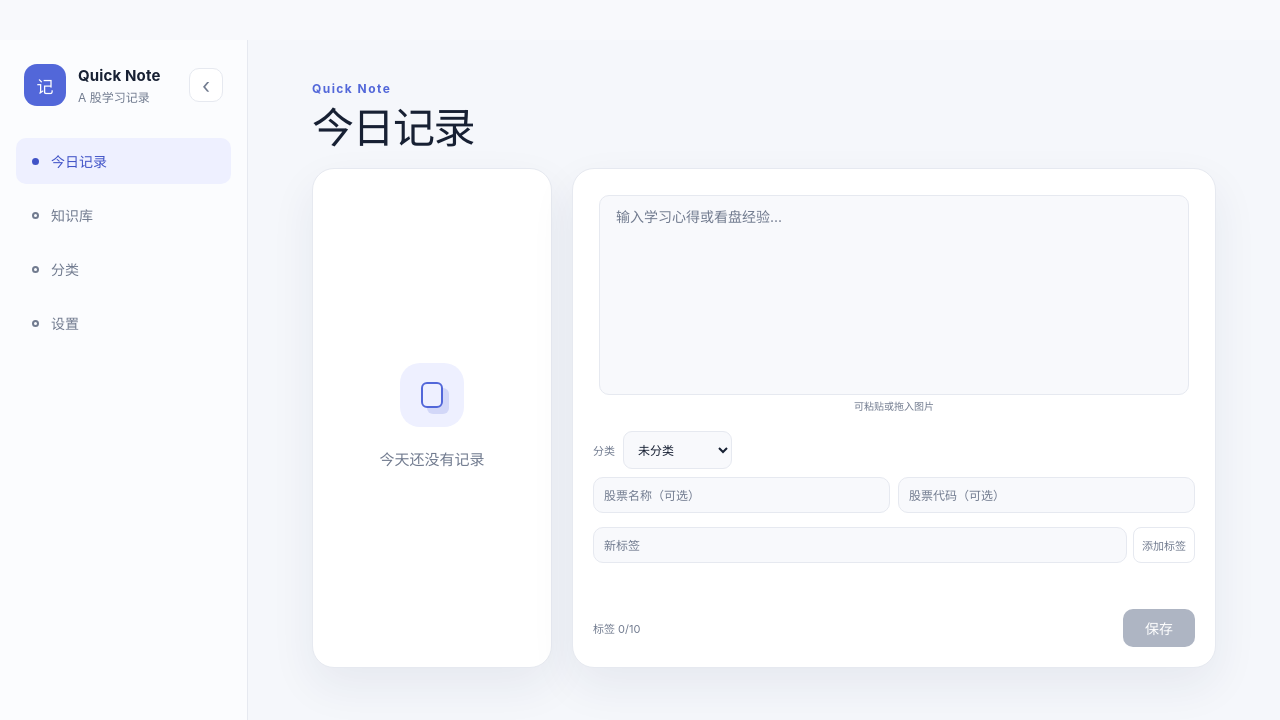
Test: main window shell › shows the requested page content when navigating
Expected: the text "今天还没有记录" is shown, [380,447,484,473]
Click the button "知识库" at (124, 215), box [16,192,231,238]
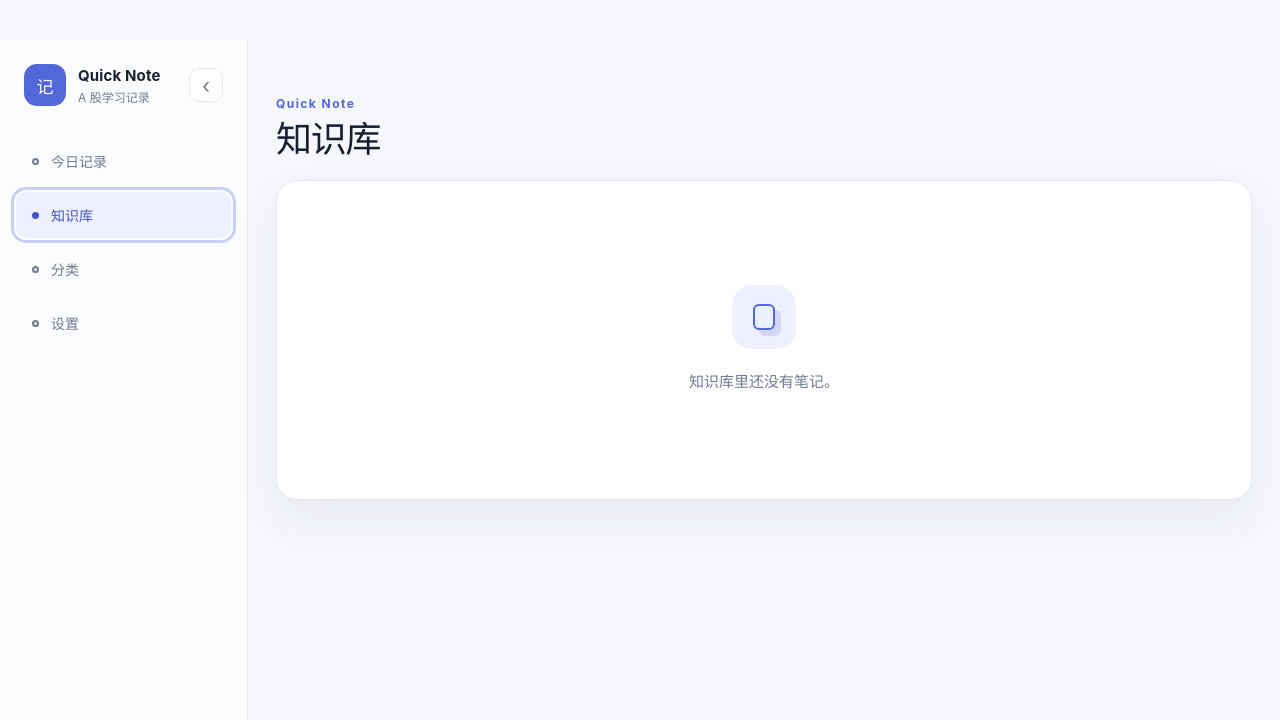
Result: the text "知识库里还没有笔记。" is shown at [689,369,839,395]
Click the button "分类" at (124, 269), box [16,246,231,292]
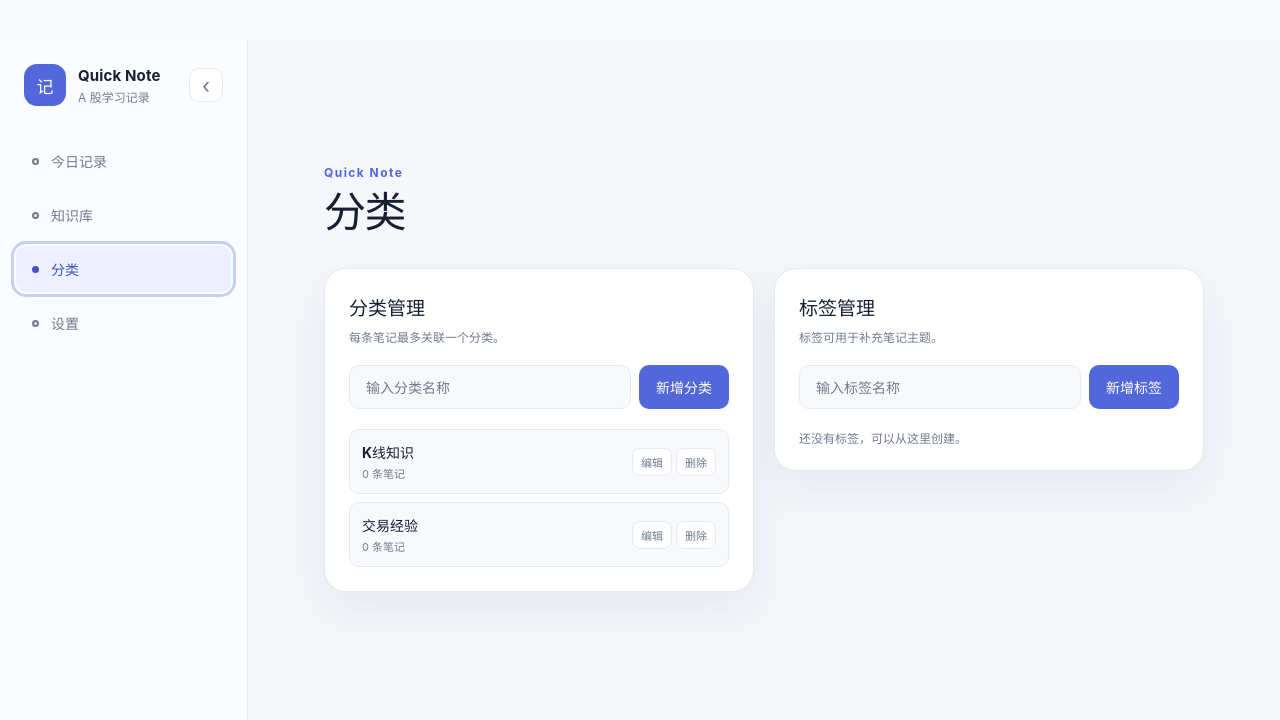
Result: the heading "分类管理" is shown at [349,297,425,320]
Result: the heading "标签管理" is shown at [799,297,875,320]
Click the button "设置" at (124, 323), box [16,300,231,346]
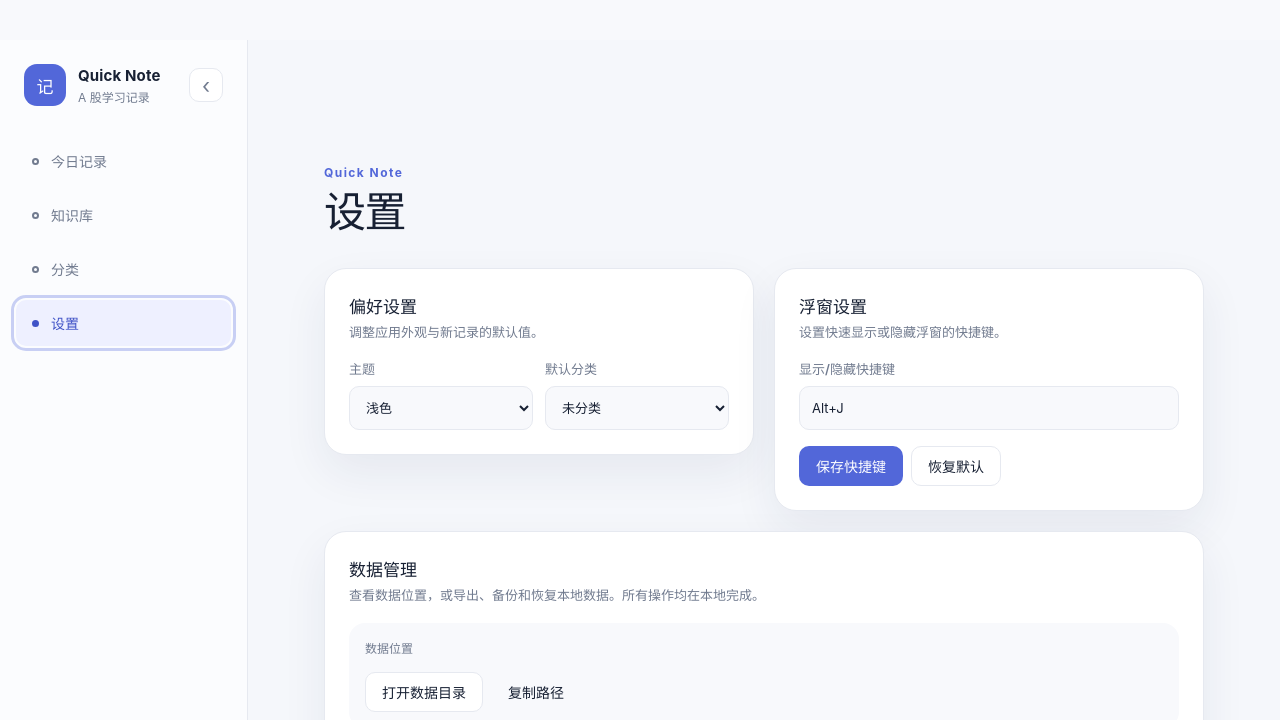
Result: the heading "数据管理" is shown at [349,560,417,580]
